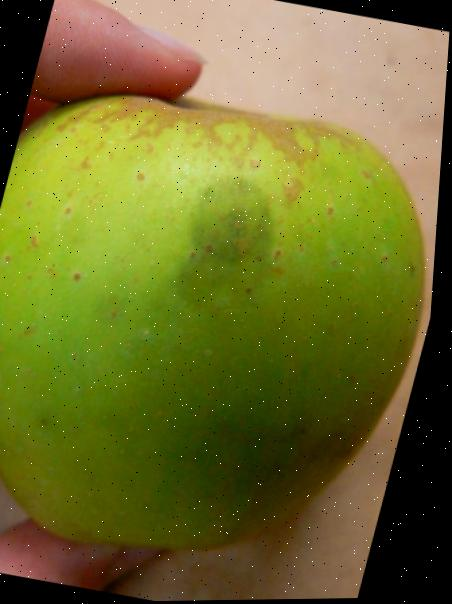BLOTCH: (0, 15, 451, 604)
